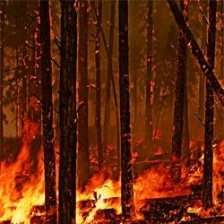fire: (1, 143, 224, 222)
